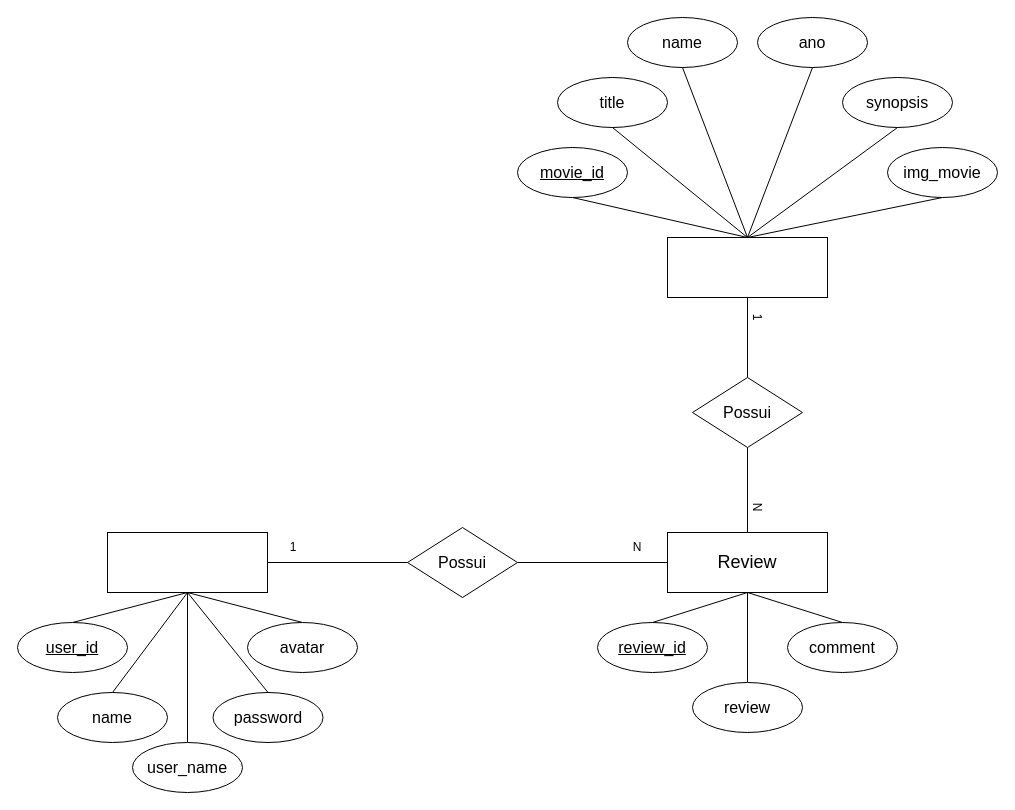
Some shapes in this 1015 by 810 pixel diagram are drawn without their labels. Each missing label, with the centre of its shape:
Movie: the point at 747,267
User: the point at 187,562
